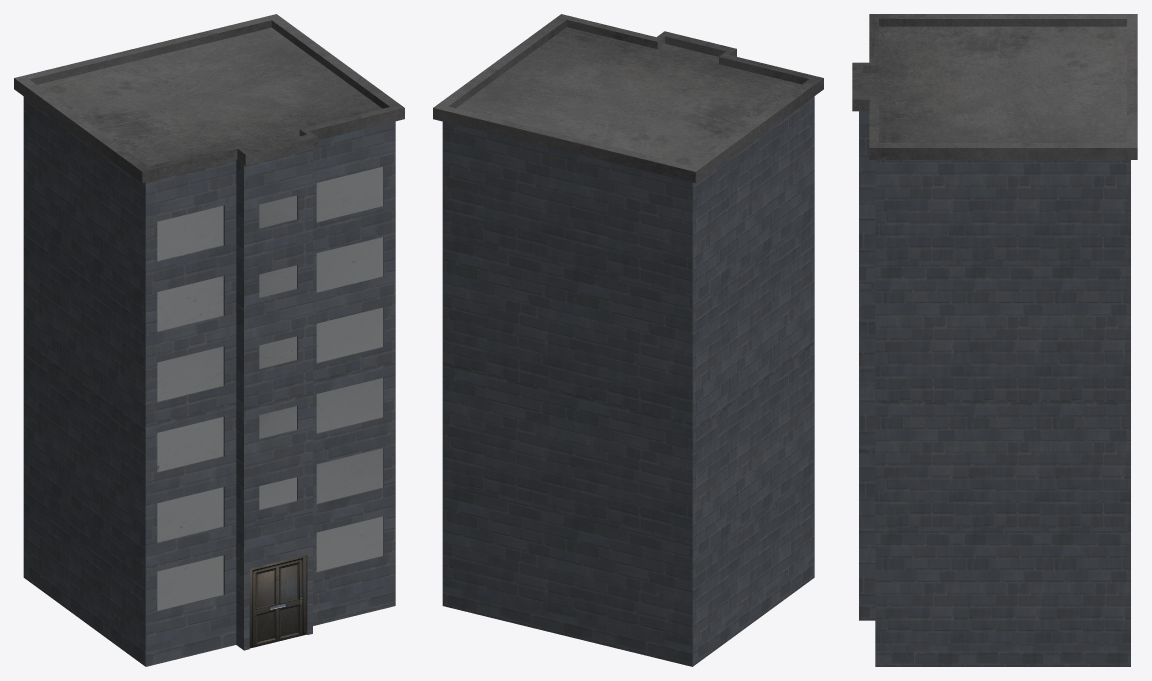
Rendered from BTBrickBuildingModdernDoor.fbx.
The picture shows the model from 3 angles, left to right: view 1: azimuth 30°, elevation 25°; view 2: azimuth 150°, elevation 25°; view 3: azimuth 270°, elevation 25°; orthographic projection. The views are drawn at different scales.
Visible parts, largest first — view 1: Building Sky_big_color01; view 2: Building Sky_big_color01; view 3: Building Sky_big_color01.
Part boxes in pixels (left/top/right/bottom): Building Sky_big_color01: left=14, top=14, right=404, bottom=666; Building Sky_big_color01: left=433, top=14, right=823, bottom=666; Building Sky_big_color01: left=852, top=14, right=1137, bottom=666.
Size of the model in its own units: 1366 by 2480 by 1230.
1 material, 1 textured.
